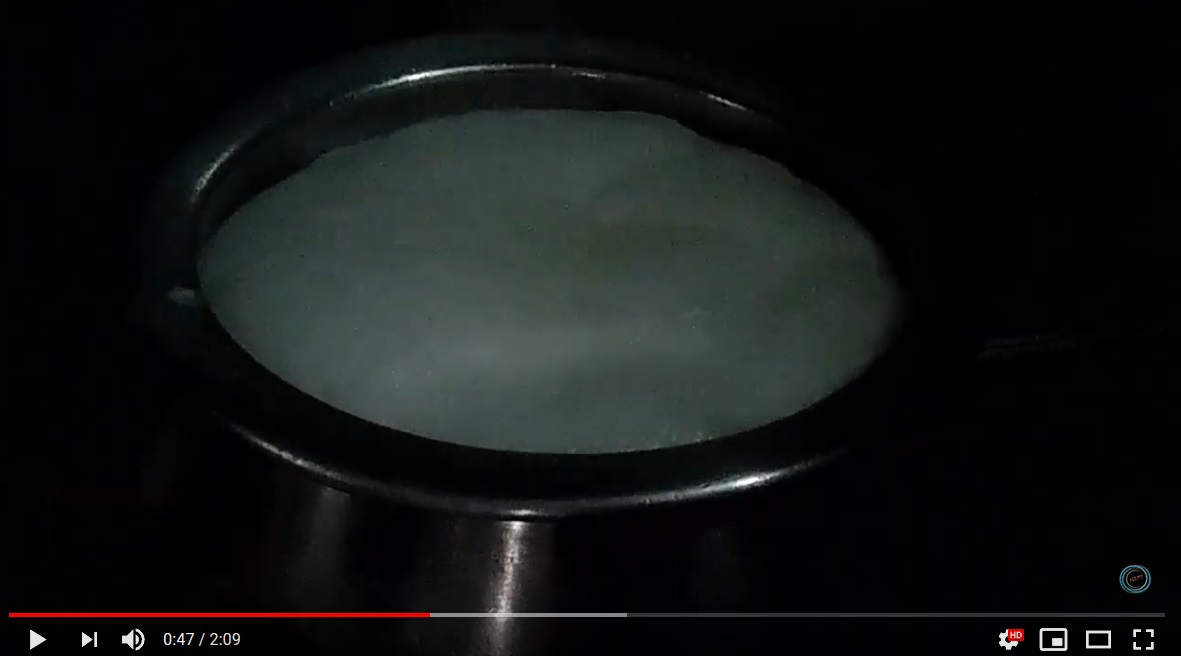Steaming: (146, 56, 938, 490)
